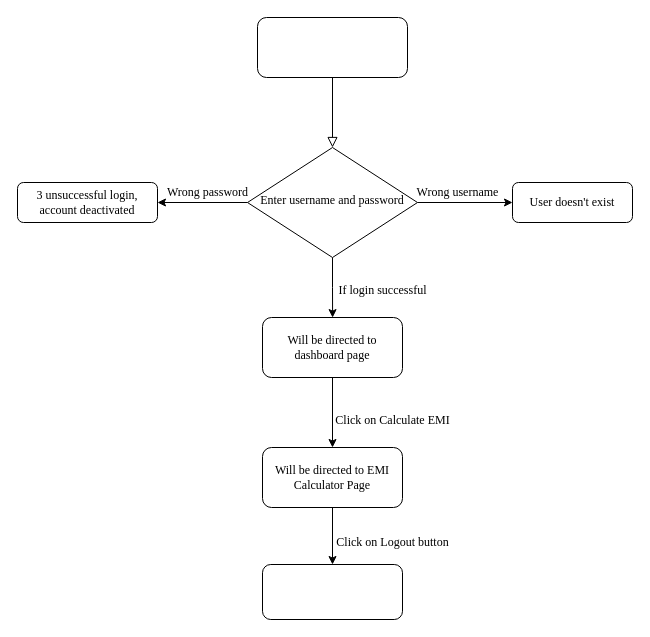
Some shapes in this 650 by 637 pixel diagram are drawn without their labels. Each missing label, with the box of its shape:
Login Page: (256, 16, 408, 78)
Will be back to Login Page: (262, 564, 402, 620)
